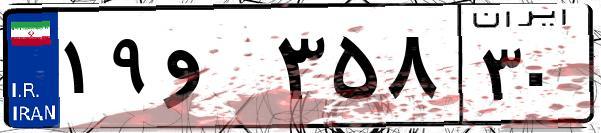0: (525, 38, 570, 115)
1: (57, 26, 110, 100)
3: (270, 28, 330, 110), (475, 38, 525, 113)
5: (330, 28, 385, 110)
8: (385, 28, 445, 110)
9: (110, 28, 158, 98)
و: (158, 20, 270, 120)
